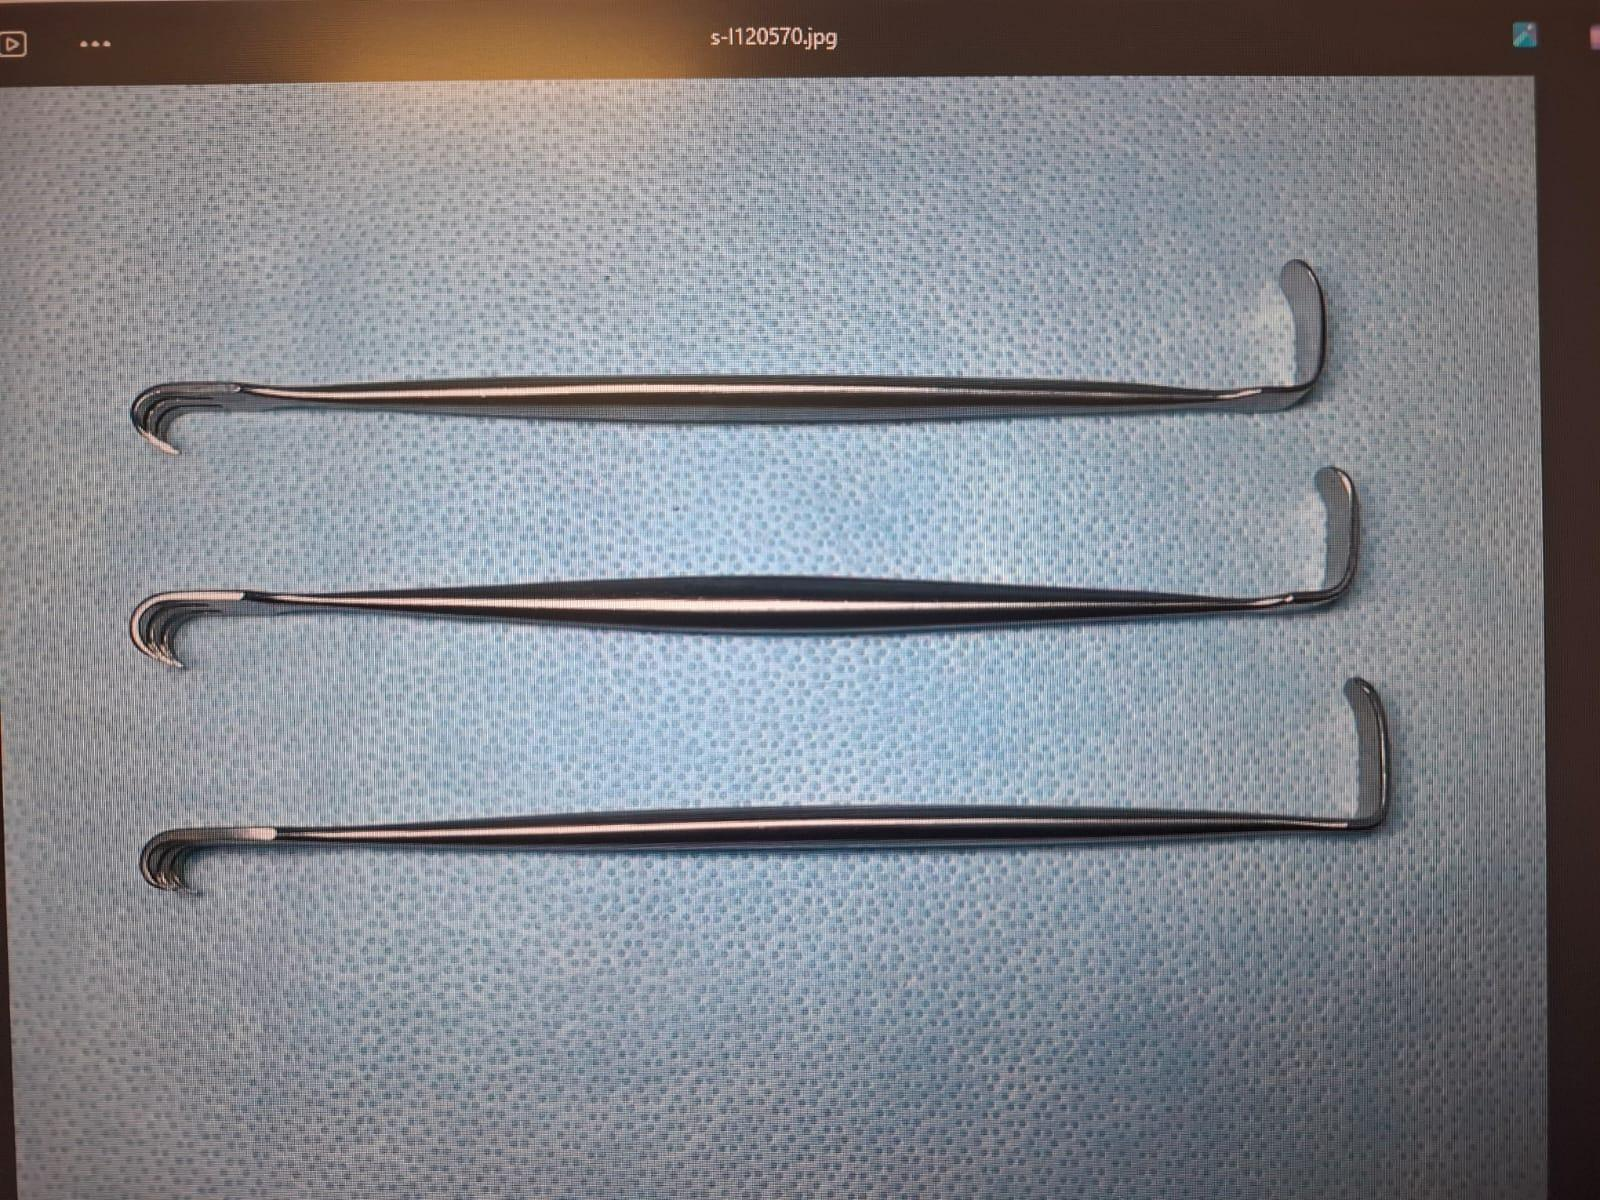Senn Retractor: (126, 658, 1414, 952), (126, 226, 1338, 490), (120, 464, 1382, 708)
